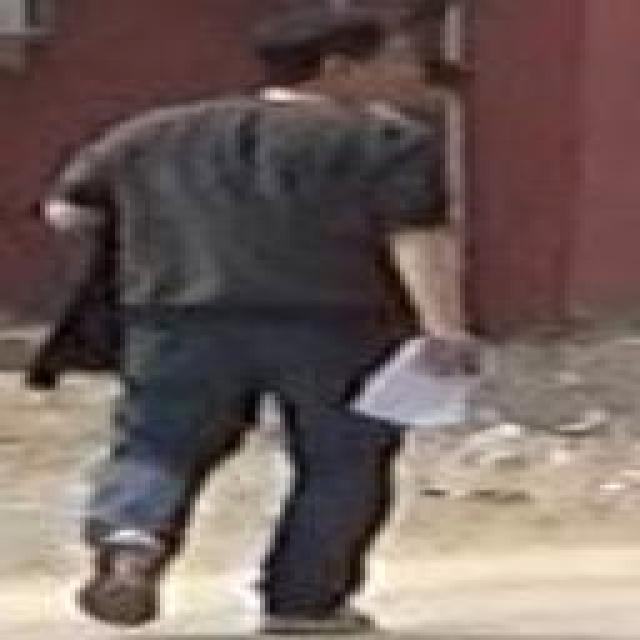adult: (36, 13, 484, 640)
